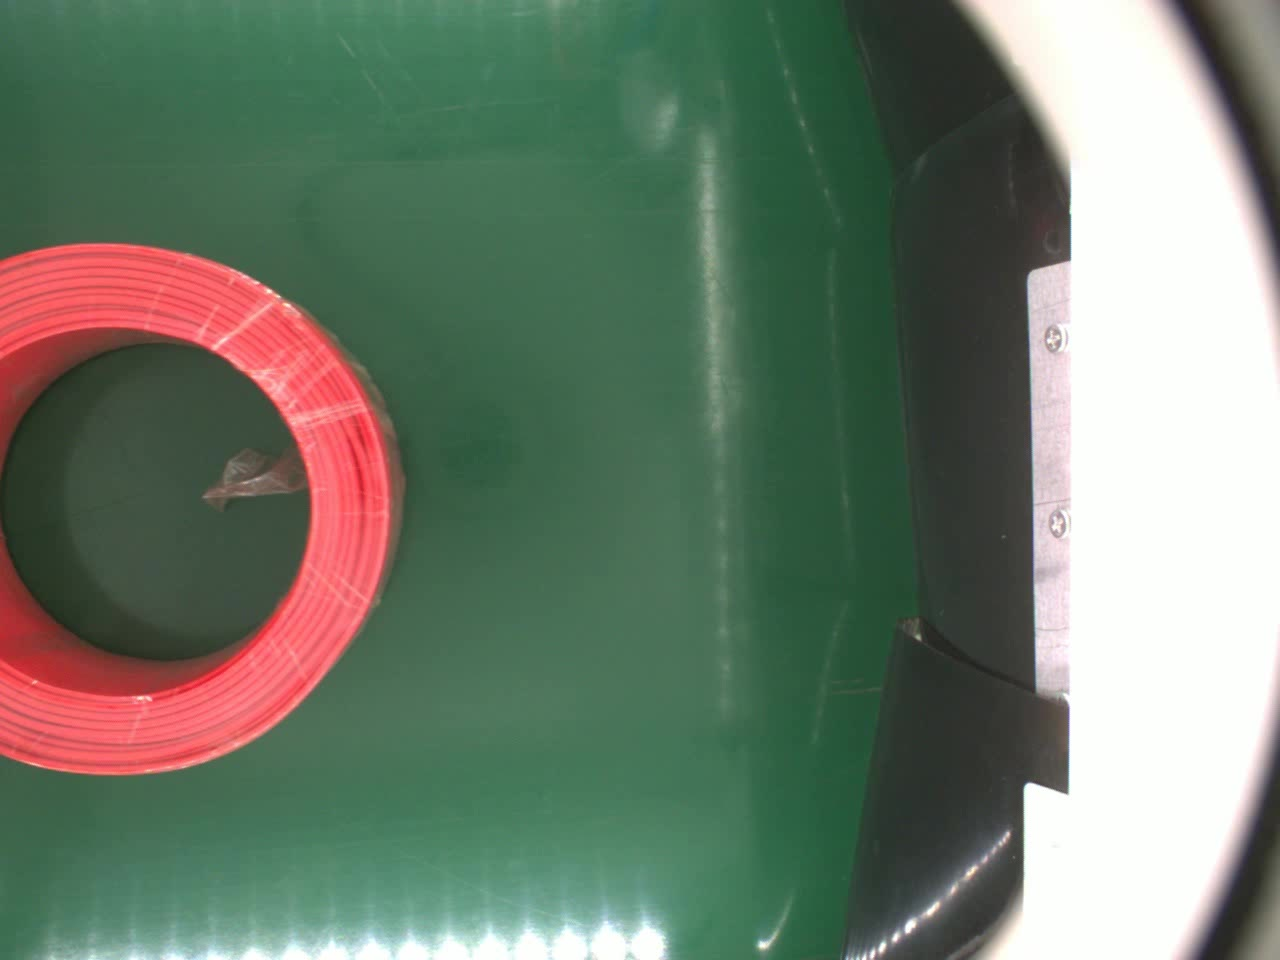red: (0, 236, 412, 781)
